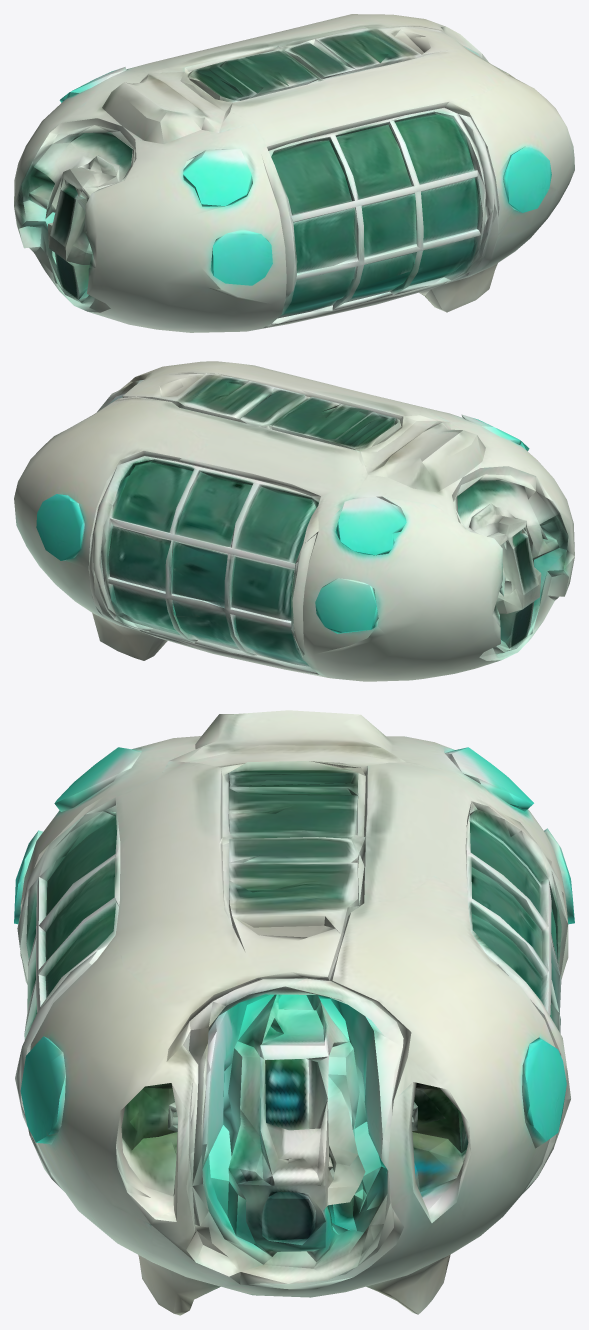
Rendered from commuter-pod.glb.
The picture shows the model from 3 angles, top to bottom: view 1: azimuth 30°, elevation 25°; view 2: azimuth 150°, elevation 25°; view 3: azimuth 270°, elevation 25°; orthographic projection. The views are drawn at different scales.
Visible parts, largest first — view 1: model; view 2: model; view 3: model.
Boxes of the visible parts, x1,y1,x2,y2 form: model: (14, 14, 574, 332); model: (14, 361, 574, 681); model: (14, 710, 574, 1315).
Size of the model in its own units: 0.5 by 0.2444 by 0.3279.
1 material, 1 textured.
